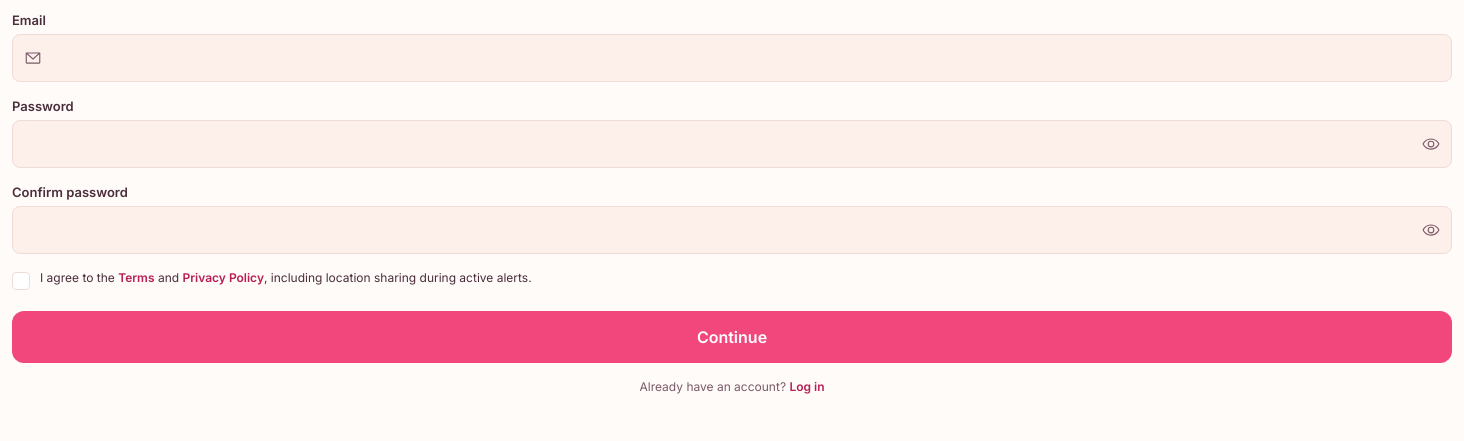
Test: RegisterForm › shows a live password strength hint that isn't shown before 8 characters
The width and height of the screenshot is (1464, 441).
Type "short" into the password field labelled "Password" at (732, 144), box [12,120,1452,168]
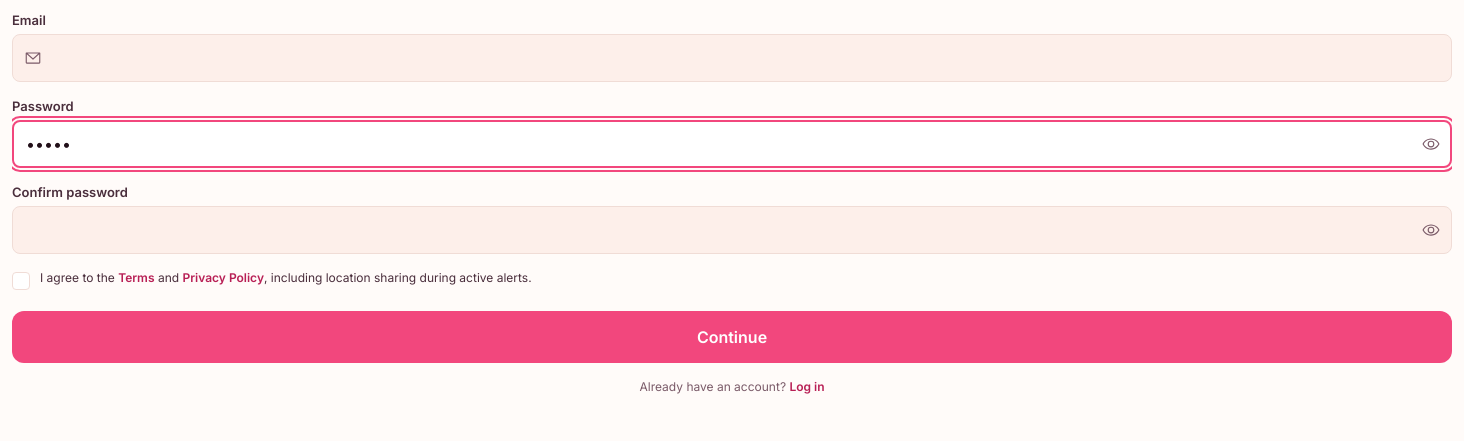
Type "1234567890" into the password field labelled "Password" at (732, 144), box [12,120,1452,168]
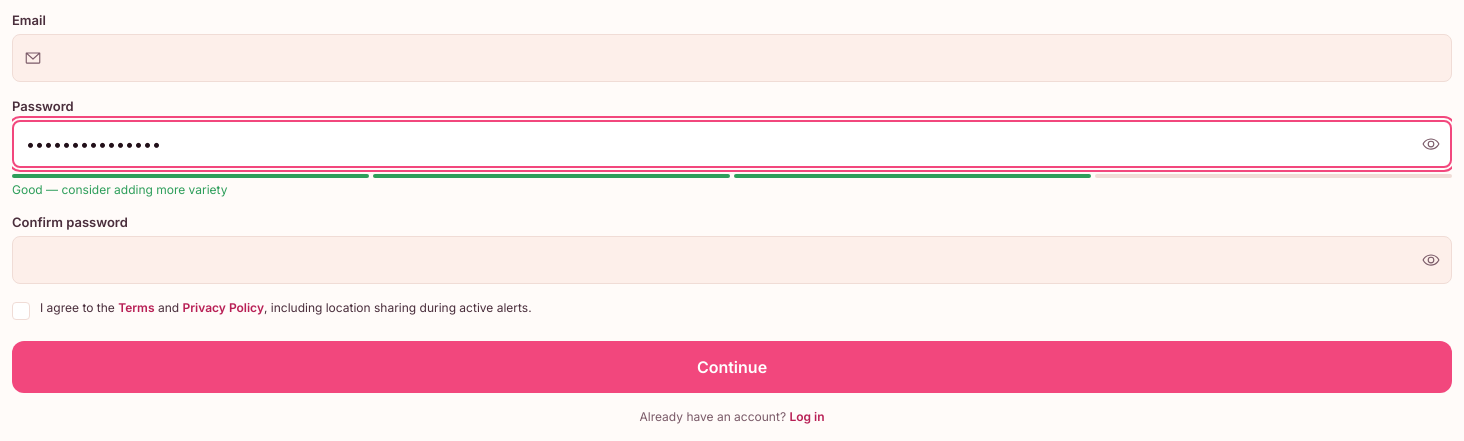
Check: the text "Good — consider adding more variety" is shown, box [12,182,228,197]
